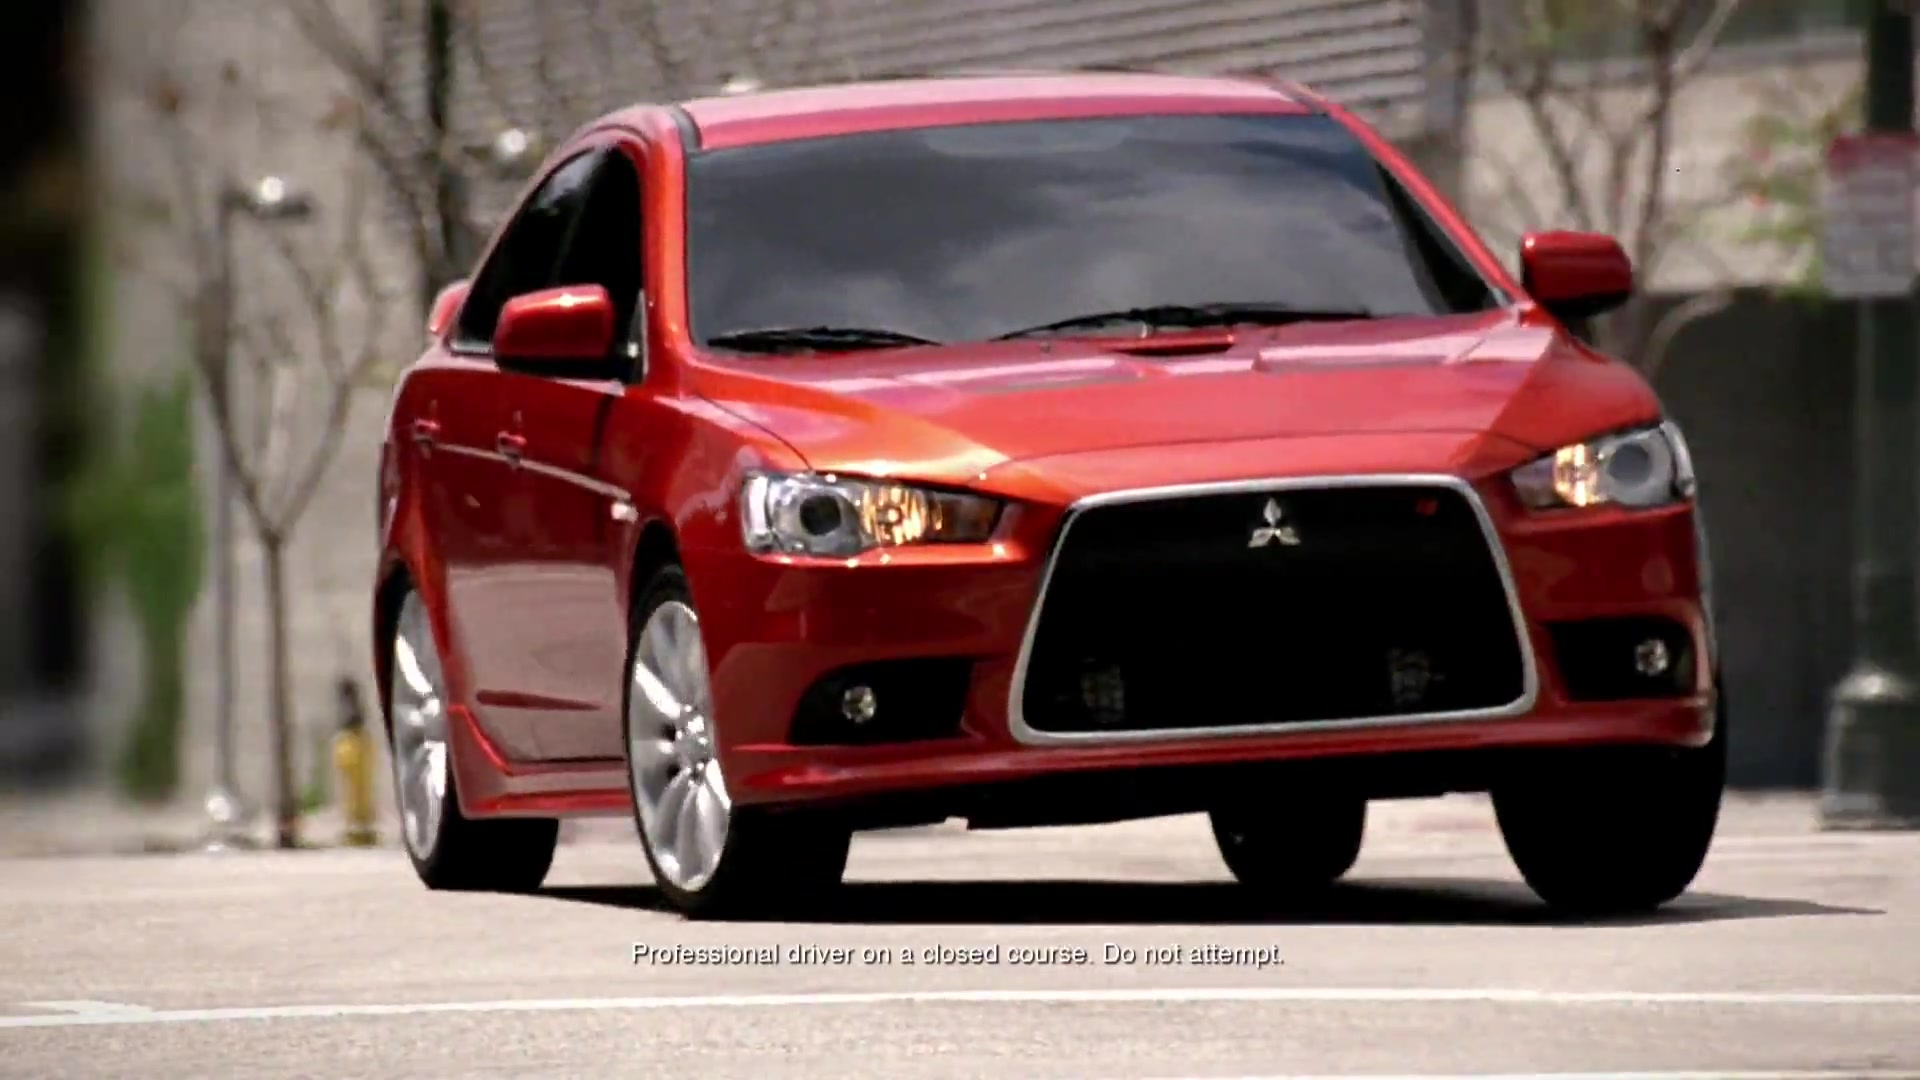car: (371, 84, 1726, 923)
